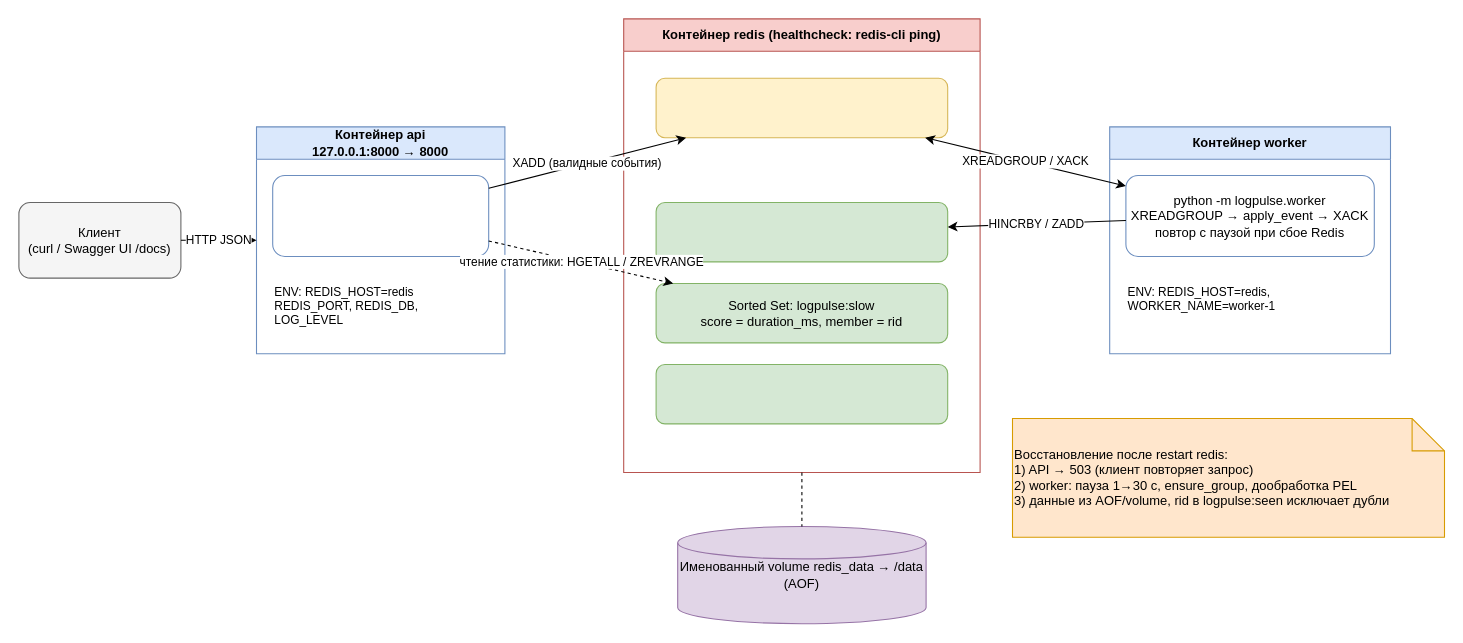
Image size: 1463x643. Some labels were removed from this diagram. Each missing label, with the centre of its shape:
"FastAPI + APIRouter /health /ingest /stats /events Pydantic · parser.py (regex)" belongs at (x=380, y=215).
"Hash: logpulse:stats:level / service / status" belongs at (x=801, y=231).
"logpulse:events (Stream) группа logpulse-workers" belongs at (x=801, y=107).
"String: stats:accepted / stats:processed Set: logpulse:seen (идемпотентность)" belongs at (x=801, y=393).
